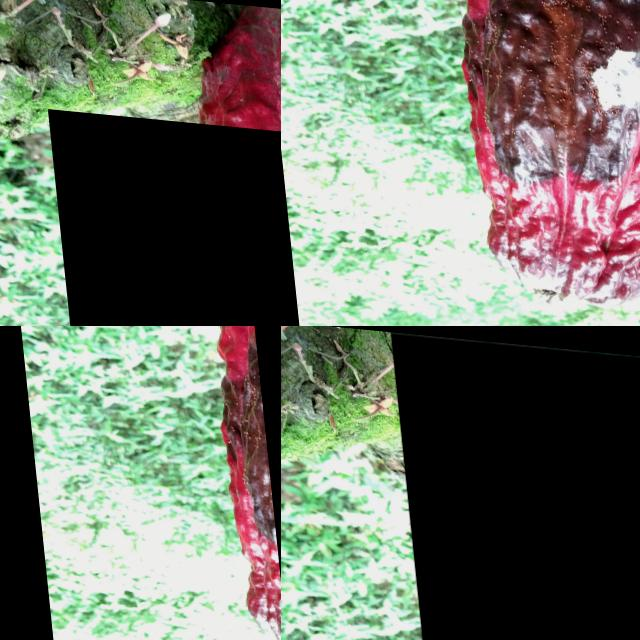Fitoftora: (45, 107, 281, 326)
Monilia: (391, 328, 640, 640)
Sana: (26, 326, 281, 453), (0, 326, 69, 378)
